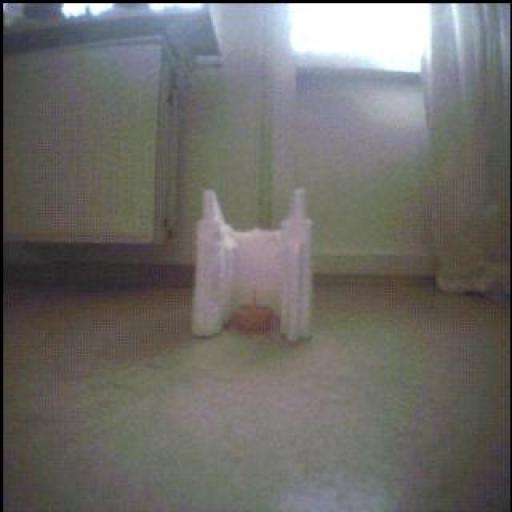Basket: (236, 289, 276, 333)
